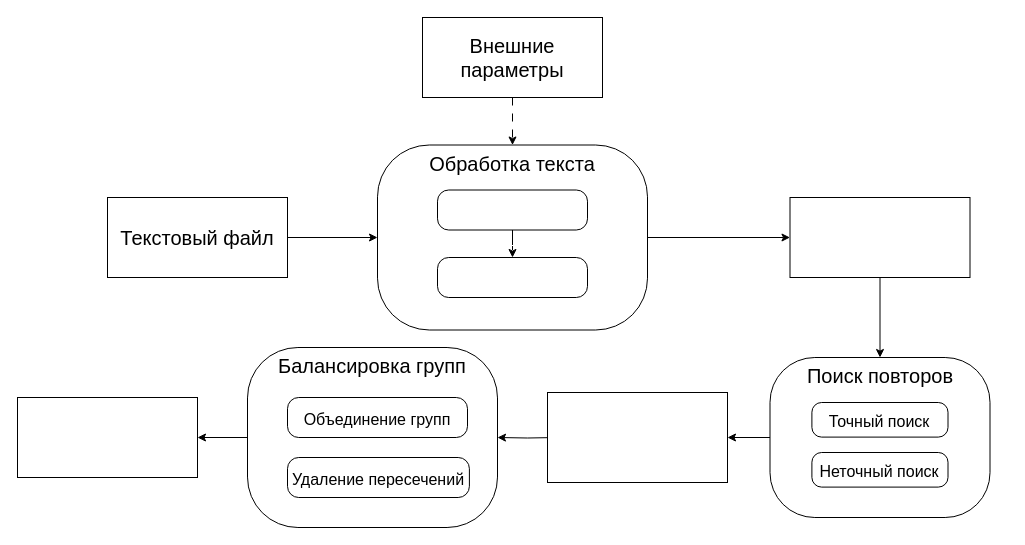
This 1025x545 diagram has some shape labels left out. The shapes that lost their labels are listed below. From the top down, each one's centre as x and y in pixels, then its label:
(x=512, y=209): NLP обработка
(x=879, y=237): Представление текста
(x=512, y=277): Токенизация
(x=107, y=437): Итоговые группы повторов
(x=637, y=437): Предварительные группы повторов
